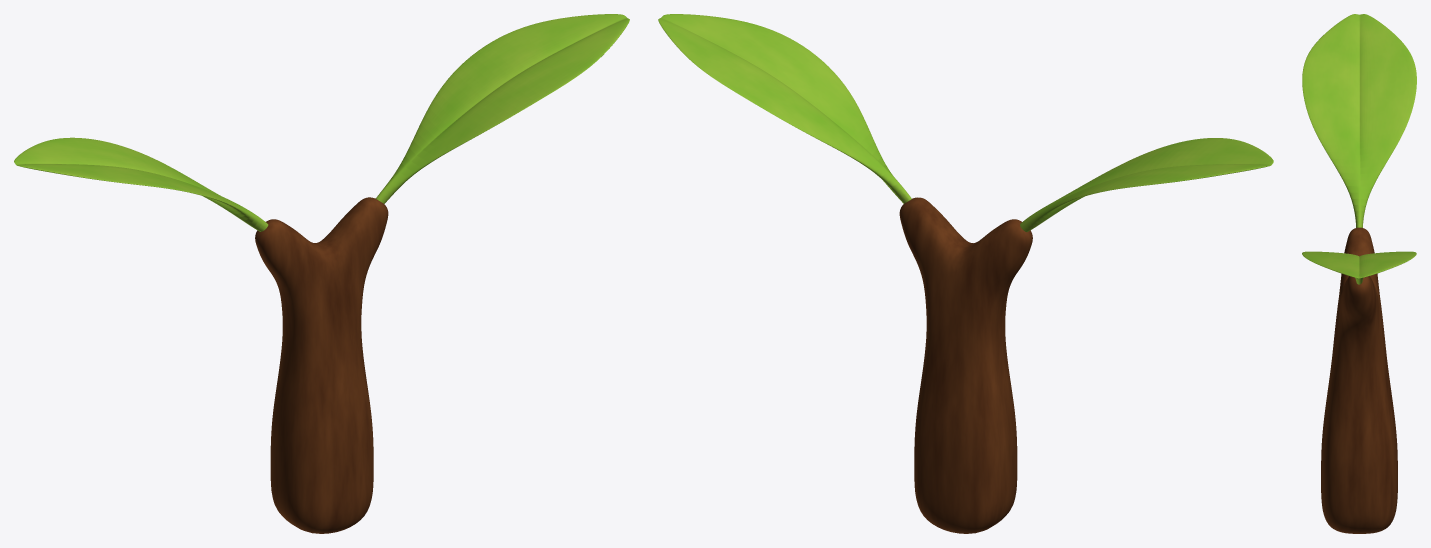
Rendered from tree-1.glb.
3 views of the same model, side by side, from view 1: azimuth 30°, elevation 25°; view 2: azimuth 150°, elevation 25°; view 3: azimuth 270°, elevation 25° (orthographic). The views are drawn at different scales.
Visible parts, largest first — view 1: Tree 1, Leaf 1B, Leaf 1A; view 2: Tree 1, Leaf 1B, Leaf 1A; view 3: Tree 1, Leaf 1A, Leaf 1B.
Part boxes in pixels (x1,y1,x2,y2): Tree 1: (255, 197, 388, 533); Leaf 1B: (376, 14, 629, 203); Leaf 1A: (14, 137, 268, 231); Tree 1: (899, 197, 1032, 533); Leaf 1B: (658, 14, 911, 203); Leaf 1A: (1020, 138, 1273, 231); Tree 1: (1321, 227, 1397, 533); Leaf 1A: (1302, 14, 1416, 227); Leaf 1B: (1302, 251, 1416, 284).
Bounding box in the file's own units: 2 × 1.37 × 0.3714.
Materials: 2 (2 with a texture image).
